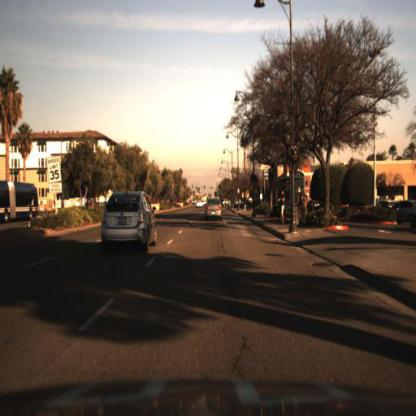car: (98, 188, 160, 251), (204, 193, 227, 225), (195, 198, 201, 208)
pedestrian: (297, 186, 308, 222), (281, 189, 288, 227), (282, 190, 287, 226), (249, 197, 254, 215), (244, 195, 248, 215)
